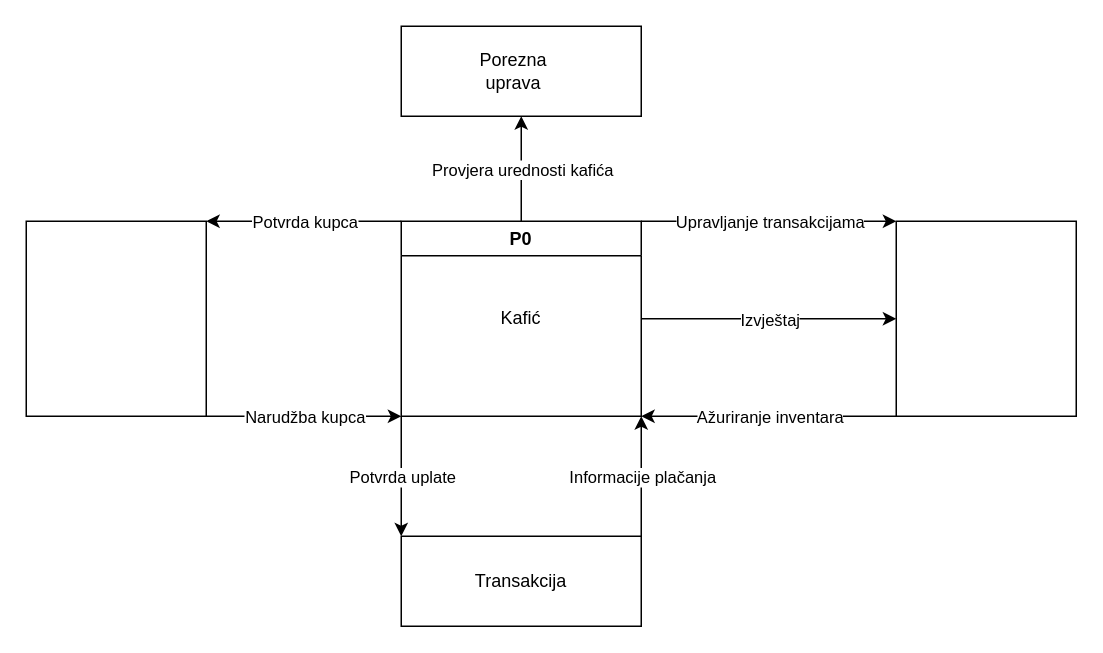
Image size: 1103x653. Some labels were removed from this diagram. The centre of each missing label's shape, as x and y in pixels:
"Konobar/barista" belongs at (x=115, y=318).
"Šef/menadžer" belongs at (x=985, y=318).
